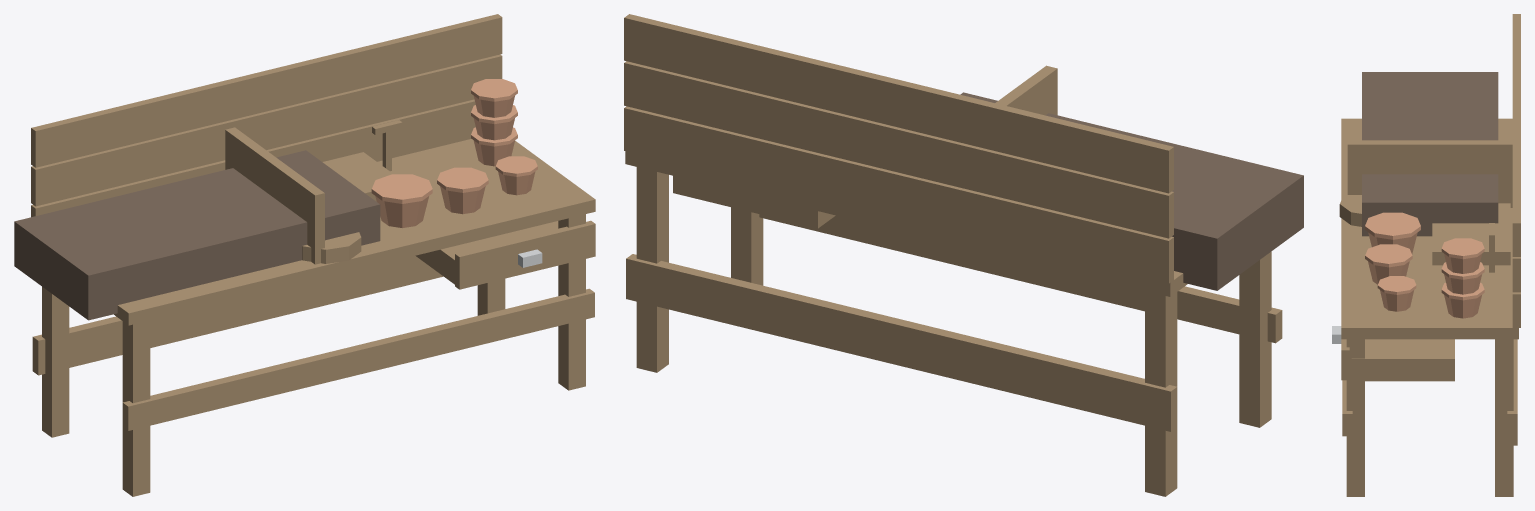
The model's file is botanical-glasshouse-and-palm-house-botanical-glasshou-224f0a95__38566.glb.
The picture shows the model from 3 angles, left to right: view 1: azimuth 30°, elevation 25°; view 2: azimuth 150°, elevation 25°; view 3: azimuth 270°, elevation 25°; orthographic projection. The views are drawn at different scales.
Visible parts, largest first — view 1: botanical-glasshouse-and-palm-house-potting-bench, drawer-bench/timber; view 2: botanical-glasshouse-and-palm-house-potting-bench, drawer-bench/timber; view 3: botanical-glasshouse-and-palm-house-potting-bench, drawer-bench/timber.
Boxes of the visible parts, x1,y1,x2,y2 form: botanical-glasshouse-and-palm-house-potting-bench: (14, 14, 595, 496); drawer-bench/timber: (415, 220, 595, 289); botanical-glasshouse-and-palm-house-potting-bench: (624, 14, 1303, 496); drawer-bench/timber: (673, 176, 835, 228); botanical-glasshouse-and-palm-house-potting-bench: (1339, 14, 1520, 496); drawer-bench/timber: (1341, 339, 1454, 381).
Size of the model in its own units: 2.55 by 1.48 by 0.915.
